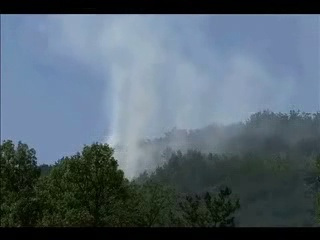smoke: (106, 103, 320, 188), (99, 12, 254, 107)
